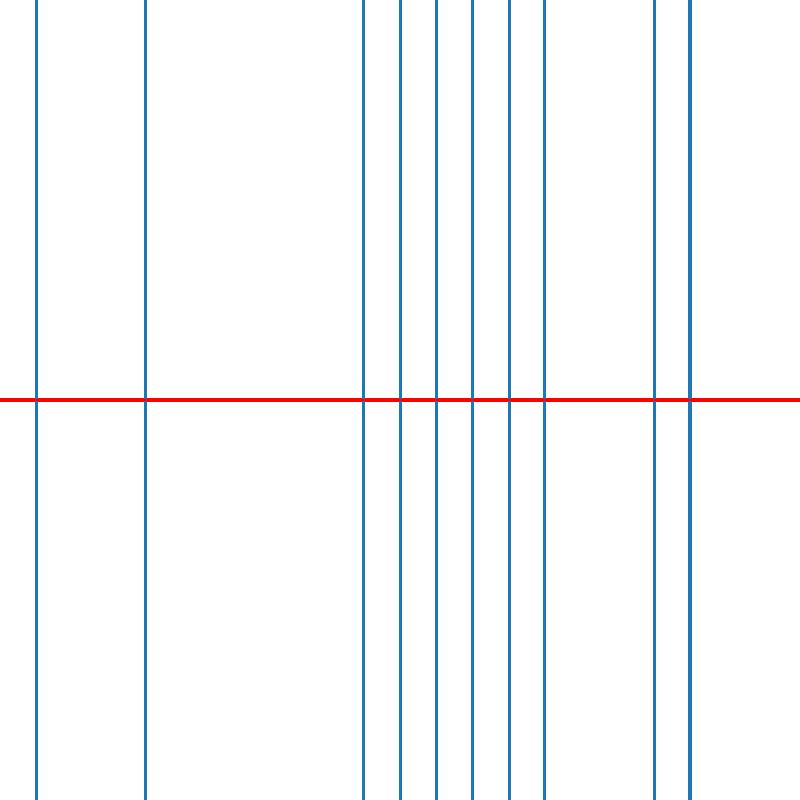root: (541, 396, 549, 404), (650, 396, 658, 404), (141, 396, 149, 404), (432, 396, 440, 404), (32, 396, 40, 404), (360, 396, 367, 404), (687, 396, 694, 404), (469, 396, 476, 404), (505, 396, 512, 404), (396, 396, 403, 404)
